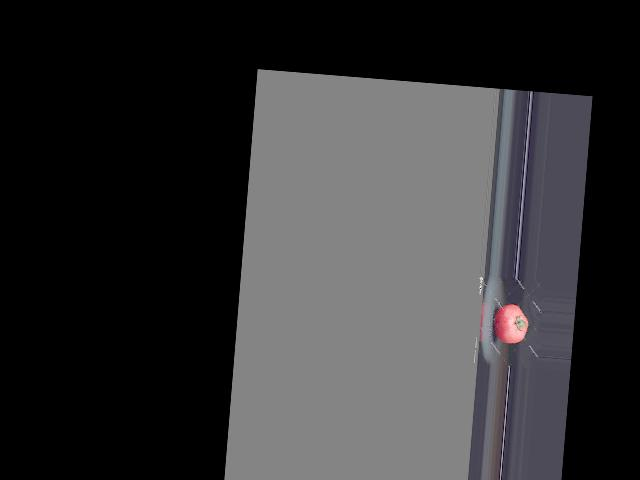tomato: (492, 303, 530, 345)
